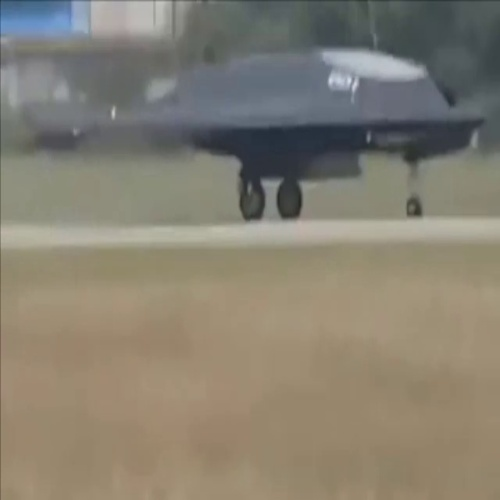uav1008: (21, 43, 489, 224)
